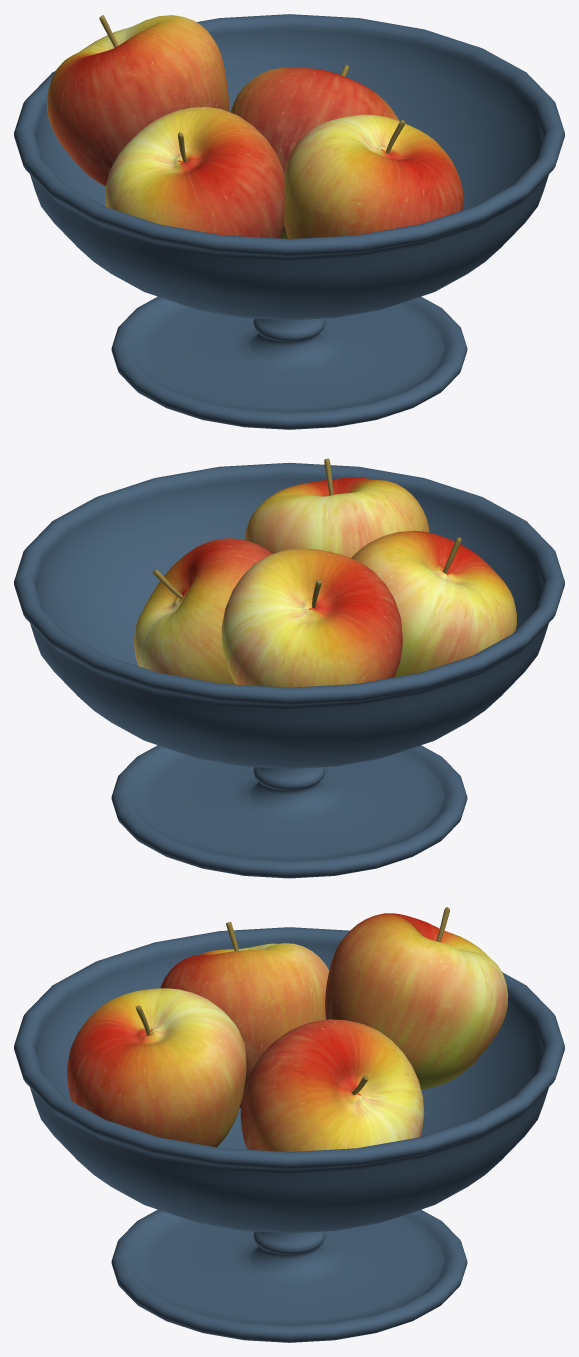
The model's file is sweethome3d-scopia-apples-69.glb.
3 views of the same model, one above another, from view 1: azimuth 30°, elevation 25°; view 2: azimuth 150°, elevation 25°; view 3: azimuth 270°, elevation 25° (orthographic).
Visible parts, largest first — view 1: jar_Plane, apple2_Tube.002, apple2.003_Tube.005, apple2.001_Tube.001, apple2.002_Tube.004; view 2: jar_Plane, apple2.003_Tube.005, apple2_Tube.002, apple2.002_Tube.004, apple2.001_Tube.001; view 3: jar_Plane, apple2.001_Tube.001, apple2.003_Tube.005, apple2.002_Tube.004, apple2_Tube.002.
Part boxes in pixels (x1,y1,x2,y2): jar_Plane: (14, 14, 564, 429); apple2_Tube.002: (105, 107, 284, 238); apple2.003_Tube.005: (47, 15, 229, 186); apple2.001_Tube.001: (284, 114, 463, 238); apple2.002_Tube.004: (230, 65, 399, 238); jar_Plane: (14, 462, 564, 878); apple2.003_Tube.005: (221, 548, 402, 687); apple2_Tube.002: (351, 530, 516, 677); apple2.002_Tube.004: (134, 538, 272, 684); apple2.001_Tube.001: (244, 458, 429, 557); jar_Plane: (14, 927, 564, 1342); apple2.001_Tube.001: (67, 988, 246, 1147); apple2.003_Tube.005: (325, 907, 508, 1089); apple2.002_Tube.004: (240, 1019, 424, 1151); apple2_Tube.002: (160, 922, 328, 1107).
Size of the model in its own units: 25.73 by 16.02 by 25.73.
3 materials, 1 textured.
